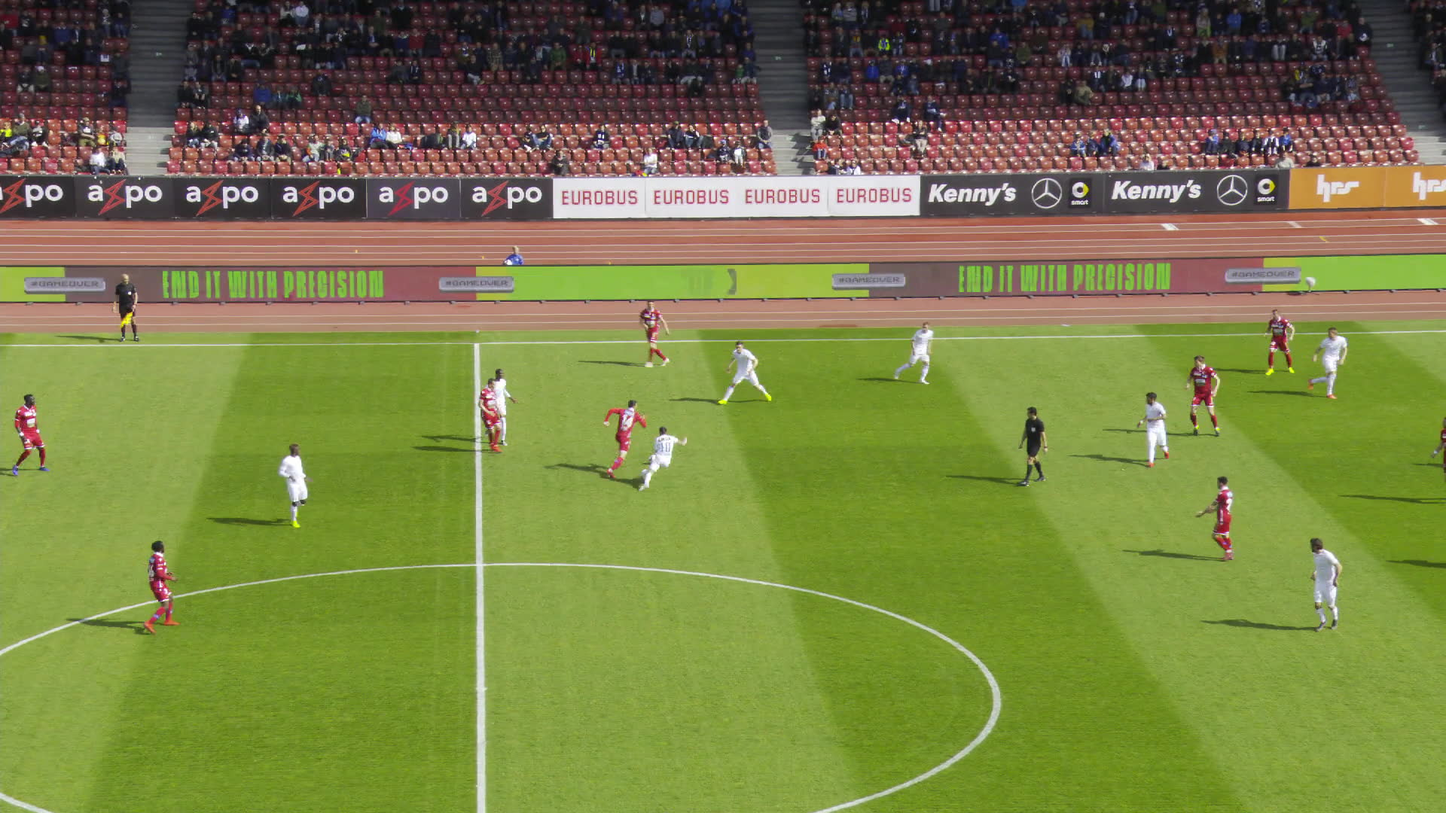ball: (645, 455, 654, 464)
player: (1194, 477, 1241, 562), (1176, 355, 1219, 438), (1297, 325, 1345, 399), (1307, 539, 1344, 633), (141, 537, 177, 630), (602, 400, 642, 475), (724, 340, 770, 405), (8, 391, 44, 473), (635, 428, 679, 492), (274, 446, 307, 528), (890, 321, 929, 383), (480, 366, 508, 446), (477, 382, 508, 453), (1261, 306, 1292, 375), (1139, 389, 1167, 463), (642, 300, 668, 369)
referee: (1017, 406, 1046, 486), (111, 273, 139, 343)
